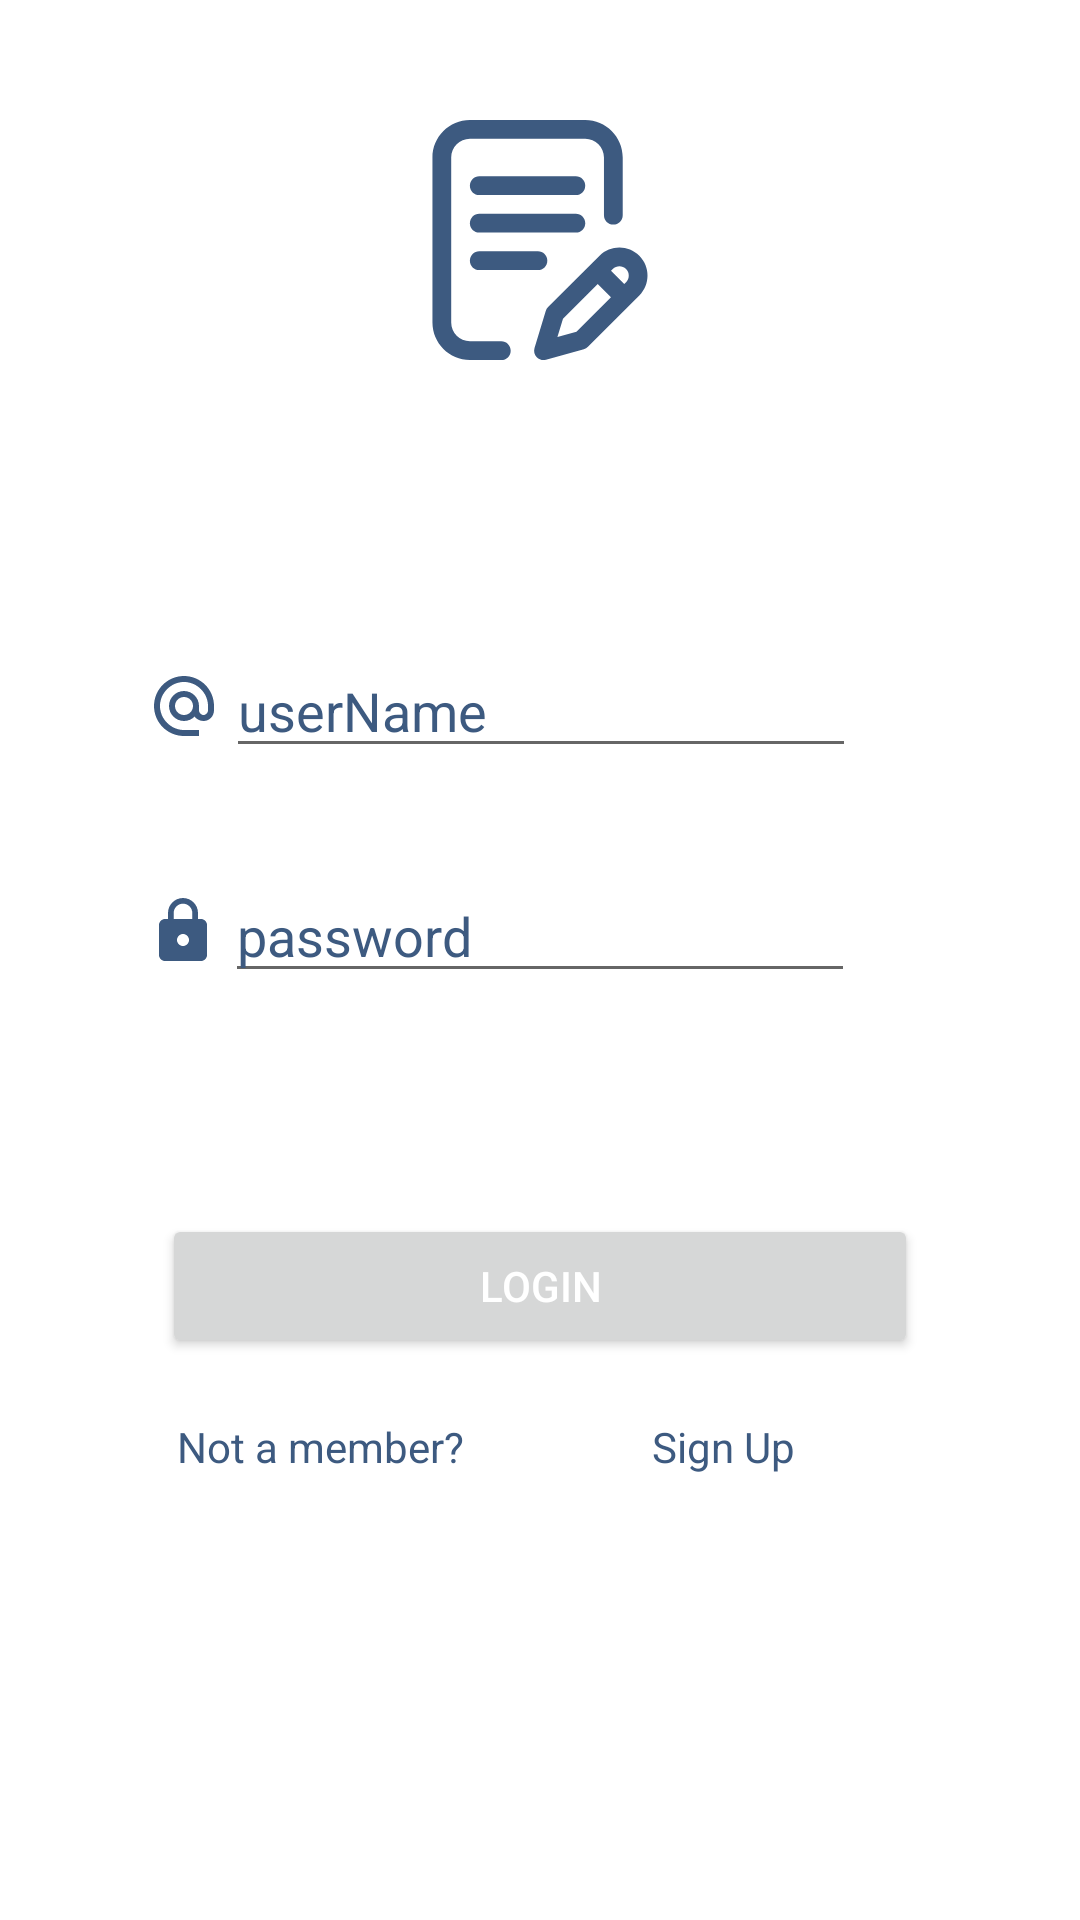

Where to tap for icons on this 1080 x 1920 app screen, as (x=x, y=y):
alternate email: (x=184, y=706)
lock: (x=183, y=929)
writing: (x=540, y=240)
